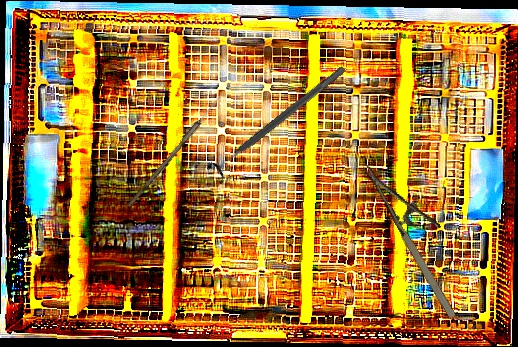Fixation Ring: (204, 58, 353, 186)
Needle Holder: (362, 146, 481, 322)
Surgical Spoon: (126, 89, 227, 210)
